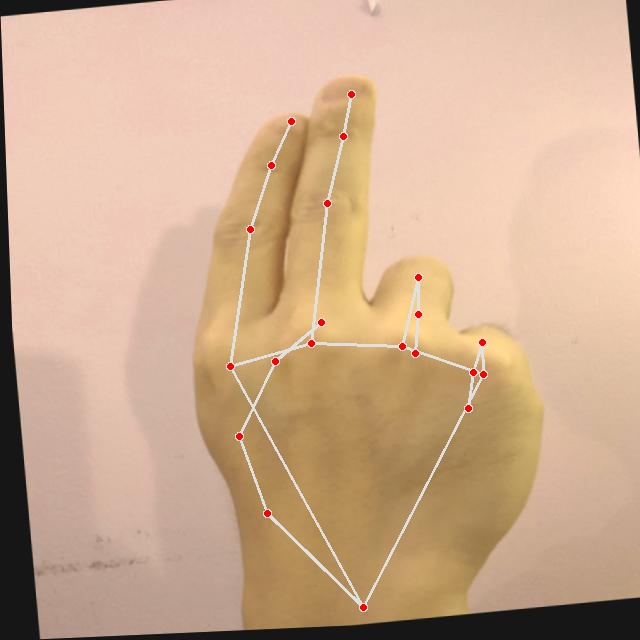U: (155, 56, 563, 613)
